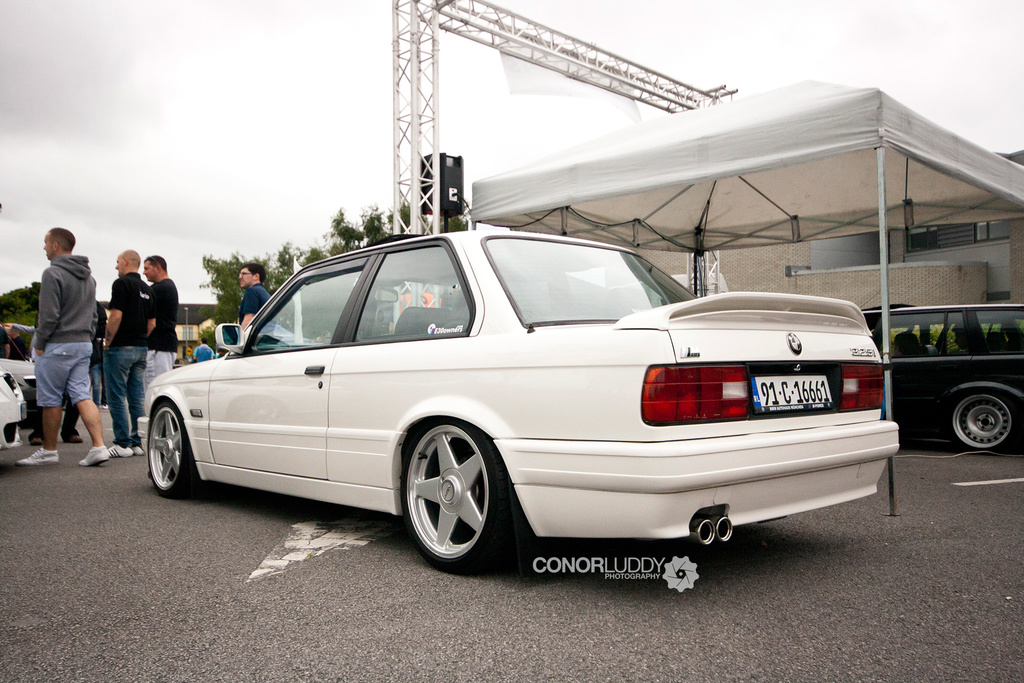cars: (129, 238, 906, 577), (860, 299, 1023, 441), (0, 360, 49, 430), (0, 366, 28, 449)
